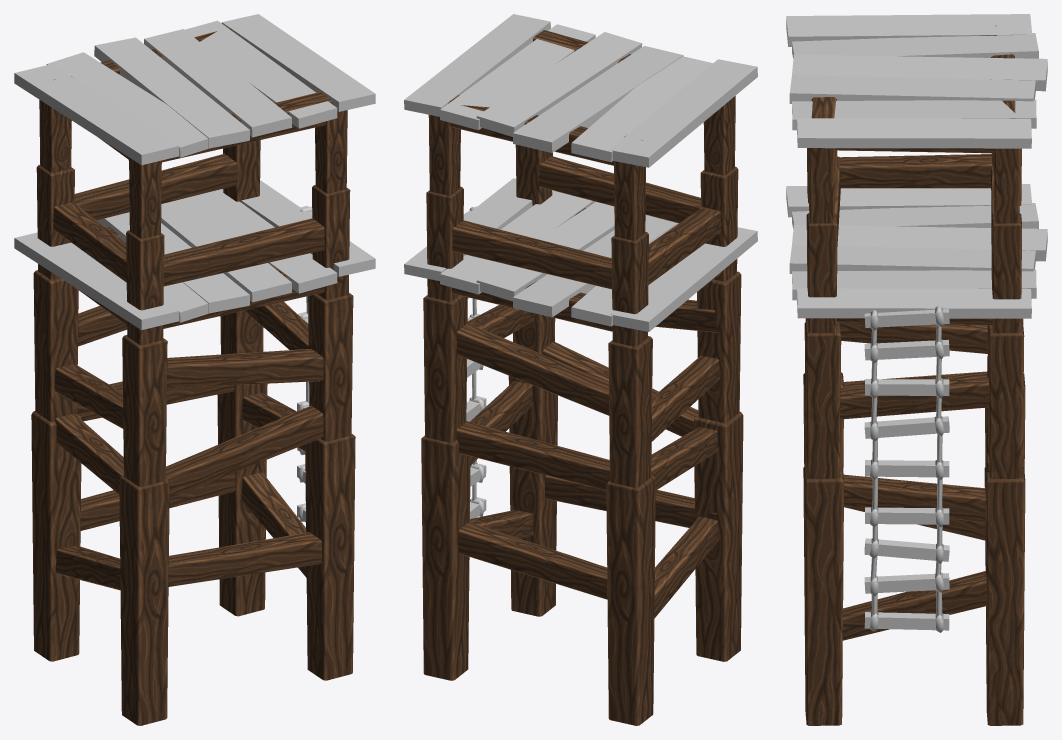
File: M_WatchTower.obj
3 views of the same model, side by side, from view 1: azimuth 30°, elevation 25°; view 2: azimuth 150°, elevation 25°; view 3: azimuth 270°, elevation 25° (orthographic). The views are drawn at different scales.
Visible parts, largest first — view 1: polySurface911 group2 group1; view 2: polySurface911 group2 group1; view 3: polySurface911 group2 group1, group2 group1 polySurface999.
Part boxes in pixels (x1,y1,x2,y2): polySurface911 group2 group1: (14,14,375,725); polySurface911 group2 group1: (404,14,757,725); polySurface911 group2 group1: (786,14,1047,725); group2 group1 polySurface999: (864,611,949,632).
Bounding box in the file's own units: 12.94 × 28 × 11.1.
